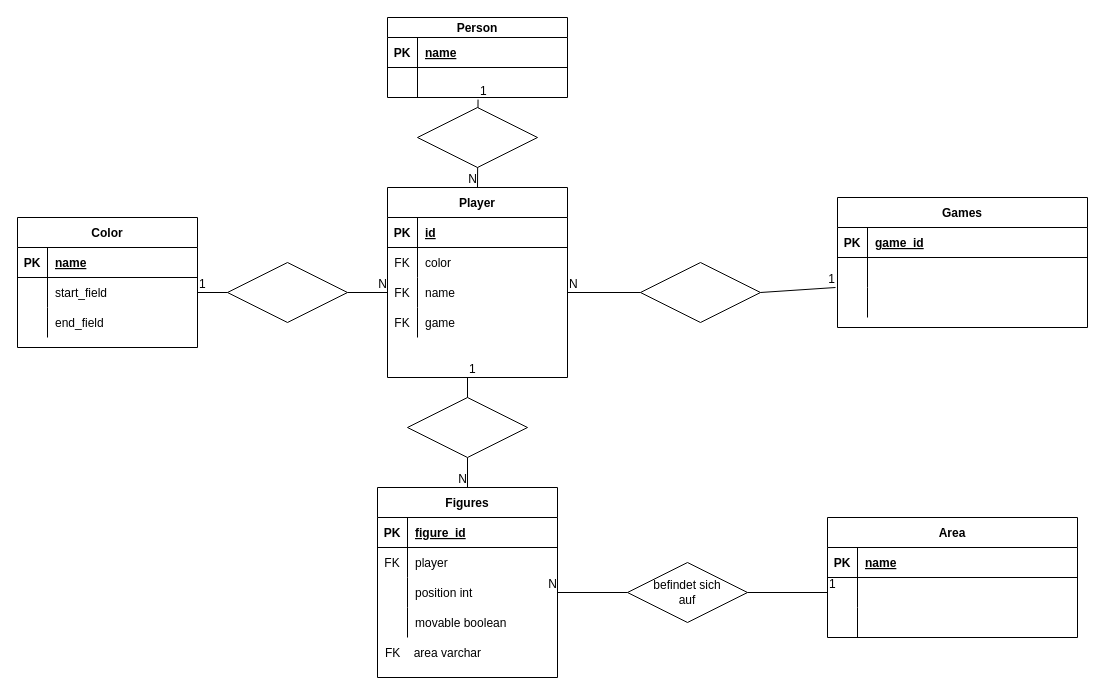
Image size: 1105x695. Some labels were removed from this diagram. The shapes that lost their labels are listed below. From the top down, each one's centre as x and y in pixels, then its label:
pixel 477 137: spielt als
pixel 287 292: hat
pixel 700 292: spielt
pixel 467 427: besitzt
